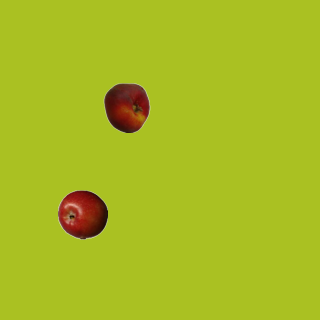Apple Braeburn: (57, 189, 107, 239)
Nectarine Flat: (101, 82, 151, 132)
